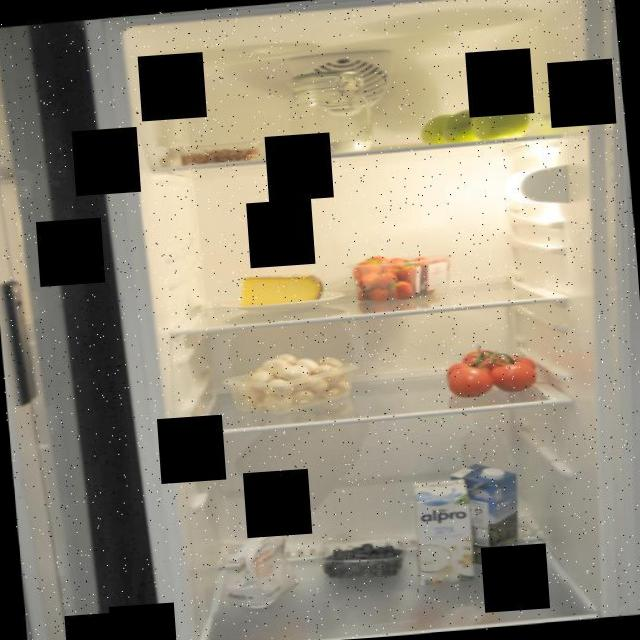Champiñones: (214, 346, 366, 418)
Gambas/Langostinos: (172, 136, 260, 168)
Leche: (446, 459, 525, 572), (407, 476, 476, 586)
Manzana: (419, 95, 535, 149)
Queso: (234, 266, 328, 312)
Tomate: (439, 335, 543, 402)
